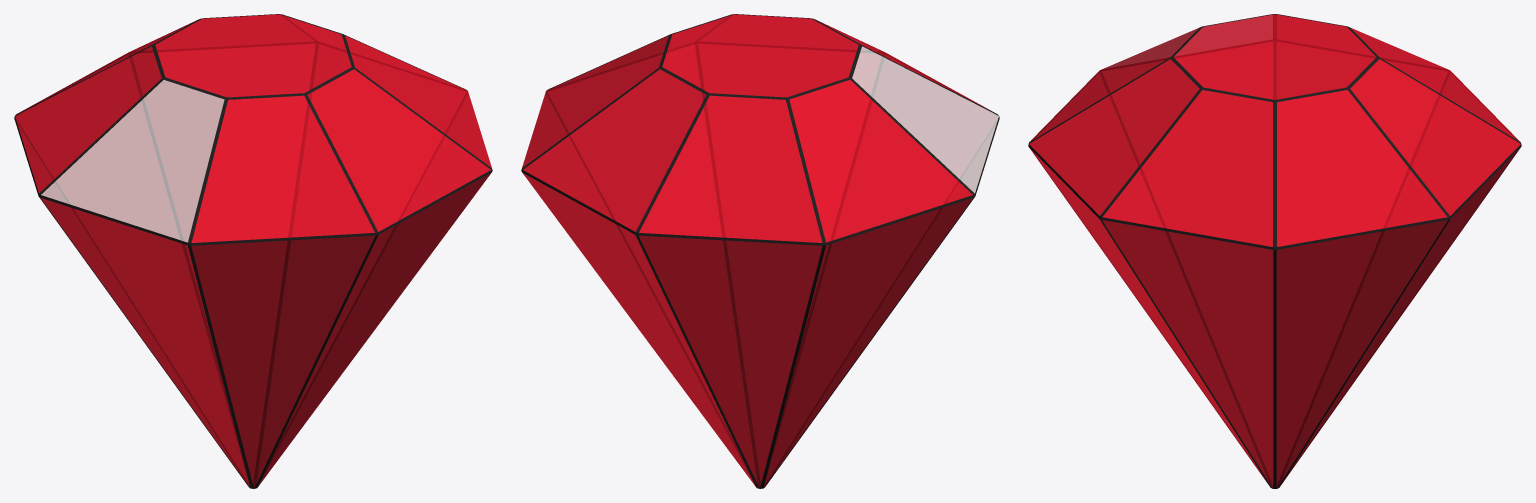
The model's file is diamond2_red.fbx.
3 views of the same model, side by side, from view 1: azimuth 30°, elevation 25°; view 2: azimuth 150°, elevation 25°; view 3: azimuth 270°, elevation 25° (orthographic).
Parts seen in each view (by area): view 1: Cylinder; view 2: Cylinder; view 3: Cylinder.
Boxes of the visible parts, x1,y1,x2,y2 form: Cylinder: (14, 14, 492, 488); Cylinder: (521, 14, 999, 488); Cylinder: (1028, 14, 1521, 488).
Bounding box in the file's own units: 191 × 184 × 191.
